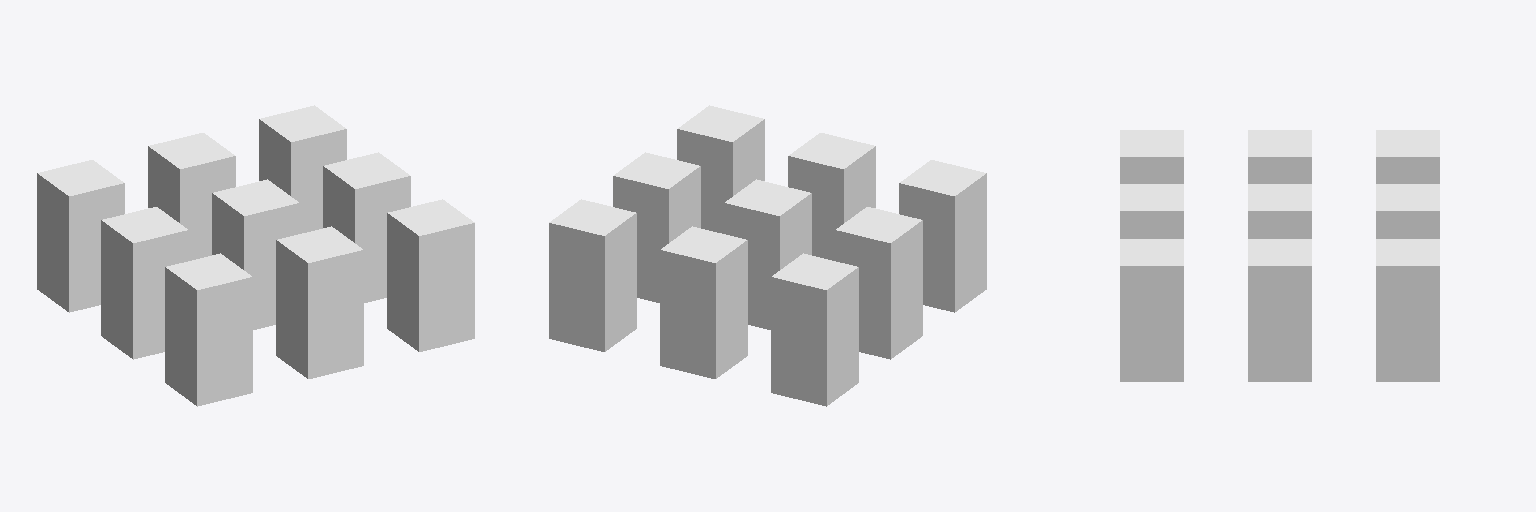
The model's file is Others.obj.
The picture shows the model from 3 angles: view 1: azimuth 30°, elevation 25°; view 2: azimuth 150°, elevation 25°; view 3: azimuth 270°, elevation 25°; orthographic projection.
Size of the model in its own units: 5 by 2 by 5.